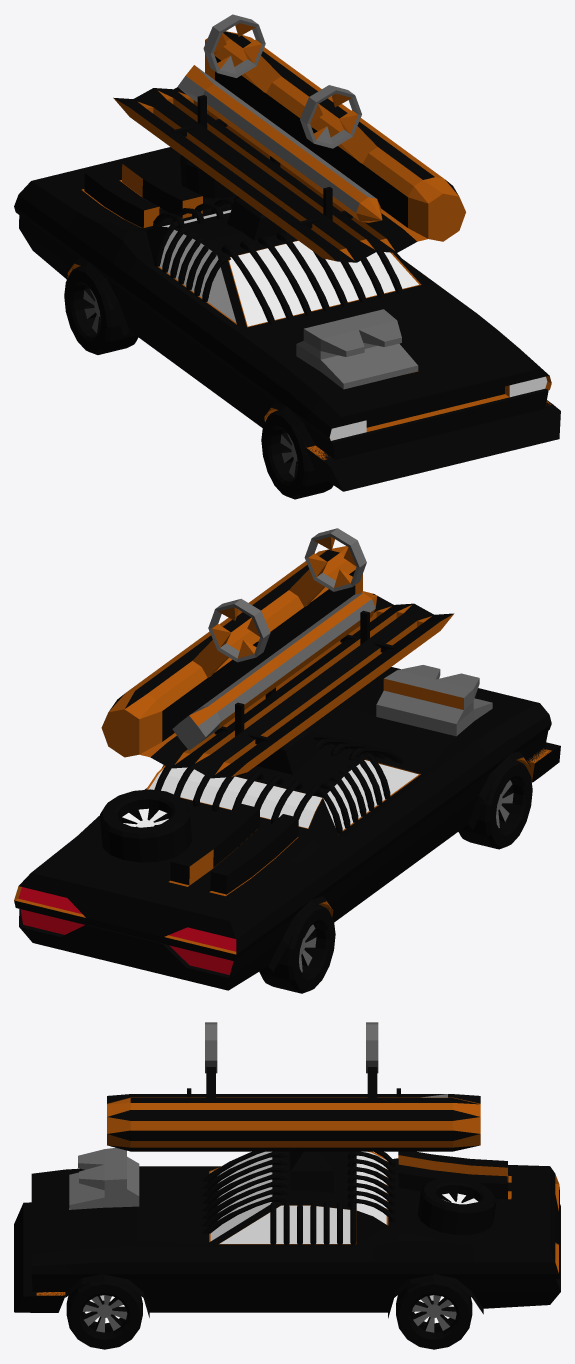
Rendered from Car_RocketL.fbx.
The picture shows the model from 3 angles, top to bottom: view 1: azimuth 30°, elevation 25°; view 2: azimuth 150°, elevation 25°; view 3: azimuth 270°, elevation 25°; orthographic projection. The views are drawn at different scales.
Visible parts, largest first — view 1: Top_A, Rocket_L, Car Main, Bot_A, Window_A, Rocket, Wheel4, Wheel2, Reloder; view 2: Top_A, Rocket_L, Car Main, Bot_A, Rocket, Window_A, Wheel4, Wheel2, Reloder; view 3: Top_A, Rocket_L, Car Main, Bot_A, Window_A, Wheel1, Wheel3.
Boxes of the visible parts, x1,y1,x2,y2 form: Top_A: (14,147,551,443); Rocket_L: (113,14,465,262); Car Main: (67,155,550,459); Bot_A: (19,215,560,491); Window_A: (153,196,403,324); Rocket: (177,65,382,222); Wheel4: (64,266,138,354); Wheel2: (261,410,333,499); Reloder: (171,95,352,228); Top_A: (14,667,551,960); Rocket_L: (101,528,454,778); Car Main: (18,665,551,974); Bot_A: (19,731,560,990); Rocket: (172,593,377,750); Window_A: (154,731,403,834); Wheel4: (259,904,335,993); Wheel2: (458,760,532,849); Reloder: (214,610,396,744); Top_A: (31,1151,559,1278); Rocket_L: (107,1022,480,1151); Car Main: (36,1147,508,1295); Bot_A: (14,1202,560,1318); Window_A: (202,1151,394,1244); Wheel1: (66,1279,142,1349); Wheel3: (396,1279,472,1349).
Bounding box in the file's own units: 138 × 191 × 338.
